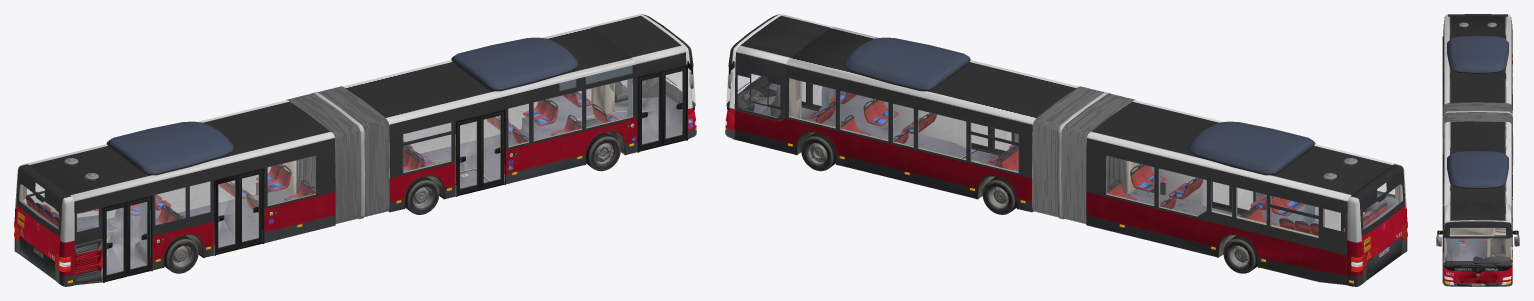
Rendered from bus.glb.
3 renders of one model, left to right at view 1: azimuth 30°, elevation 25°; view 2: azimuth 150°, elevation 25°; view 3: azimuth 270°, elevation 25°, orthographic. The views are drawn at different scales.
Visible parts, largest first — view 1: articulated bus.001, axis.001, Glass, big dashboard.001, lower body.002; view 2: articulated bus.001, lower body.002, Glass, big dashboard.001, axis.001; view 3: articulated bus.001, big dashboard.001, Glass, axis.001, lower body.002.
Part boxes in pixels (left/top/right/bottom): articulated bus.001: left=14, top=14, right=696, bottom=283; axis.001: left=22, top=64, right=695, bottom=282; Glass: left=19, top=67, right=695, bottom=274; big dashboard.001: left=14, top=37, right=694, bottom=286; lower body.002: left=64, top=118, right=688, bottom=285; articulated bus.001: left=725, top=14, right=1407, bottom=283; lower body.002: left=733, top=110, right=1357, bottom=285; Glass: left=726, top=67, right=1402, bottom=237; big dashboard.001: left=726, top=37, right=1407, bottom=286; axis.001: left=738, top=76, right=1399, bottom=237; articulated bus.001: left=1443, top=14, right=1512, bottom=286; big dashboard.001: left=1436, top=14, right=1519, bottom=286; Glass: left=1443, top=94, right=1512, bottom=266; axis.001: left=1442, top=36, right=1512, bottom=283; lower body.002: left=1449, top=61, right=1512, bottom=283.
Bounding box in the file's own units: 20.45 × 3.46 × 3.37.
5 materials, 4 textured.
